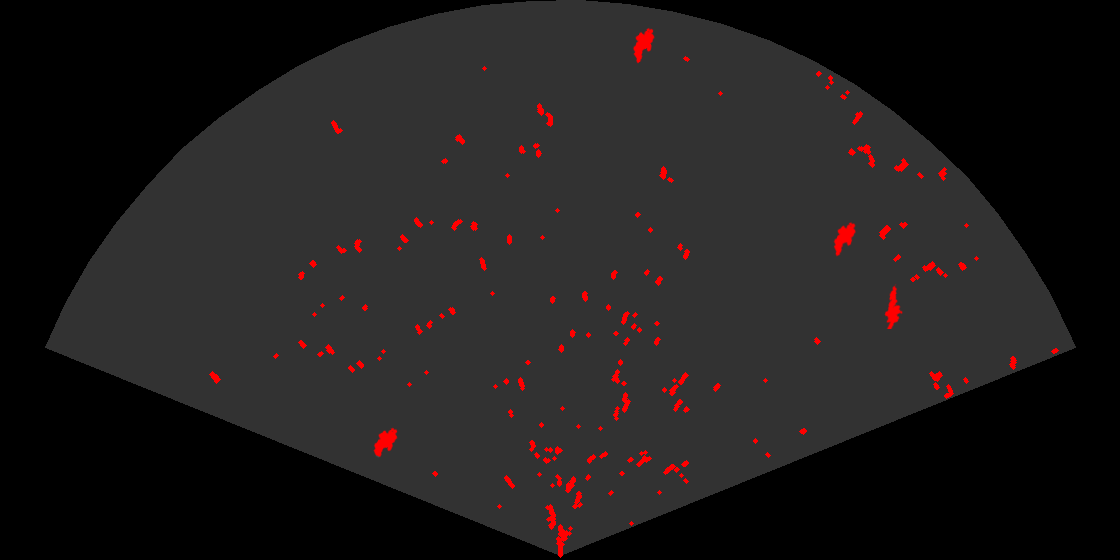AUV: (631, 26, 656, 65), (832, 220, 857, 258), (372, 426, 399, 458)
frogman: (883, 284, 904, 329)
